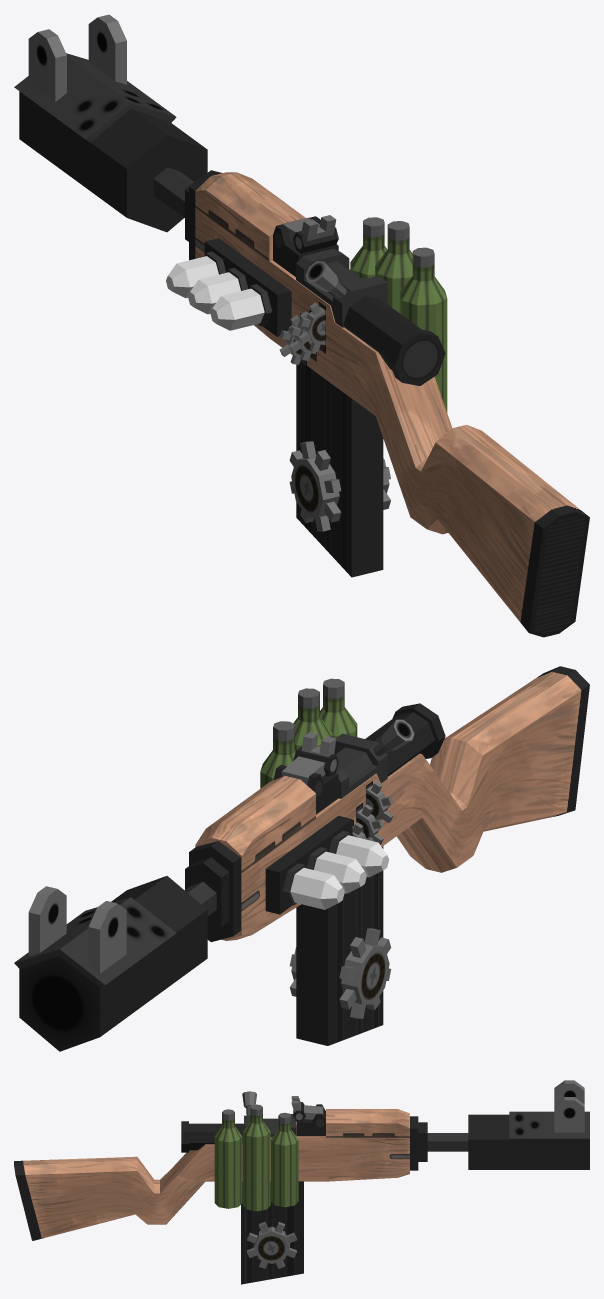
The picture shows the model from 3 angles, top to bottom: view 1: azimuth 30°, elevation 25°; view 2: azimuth 150°, elevation 25°; view 3: azimuth 270°, elevation 25°; orthographic projection. The views are drawn at different scales.
Visible parts, largest first — view 1: Body, Muzzle, Mag, Lamp, Slider, Bolt, GasDeposit_1, Gear_Mag_1, GasDeposit_2, IronSight, GasDeposit_3, IroSightSuport (+1 smaller); view 2: Body, Muzzle, Mag, Lamp, Gear_Mag_1, Bolt, Slider, IronSight, GasDeposit_1, GasDeposit_2, GasDeposit_3, IroSightSuport (+2 smaller); view 3: Body, Muzzle, Mag, GasDeposit_2, GasDeposit_1, GasDeposit_3, Gear_Mag_2, Slider, Bolt, IroSightSuport, IronSight.
Boxes of the visible parts, x1,y1,x2,y2 form: Body: [195, 172, 589, 637]; Muzzle: [14, 14, 222, 260]; Mag: [296, 361, 383, 577]; Lamp: [166, 238, 291, 336]; Slider: [343, 296, 445, 385]; Bolt: [296, 248, 387, 327]; GasDeposit_1: [400, 247, 447, 412]; Gear_Mag_1: [289, 441, 341, 531]; GasDeposit_2: [375, 221, 412, 313]; IronSight: [282, 215, 338, 253]; GasDeposit_3: [350, 217, 387, 279]; IroSightSuport: [273, 216, 338, 276]; Body: [195, 666, 589, 940]; Muzzle: [14, 841, 240, 1051]; Mag: [296, 846, 383, 1045]; Lamp: [265, 815, 389, 914]; Gear_Mag_1: [339, 928, 391, 1018]; Bolt: [334, 719, 414, 798]; Slider: [365, 703, 445, 776]; IronSight: [281, 732, 338, 784]; GasDeposit_1: [320, 678, 357, 738]; GasDeposit_2: [293, 688, 332, 750]; GasDeposit_3: [260, 721, 295, 788]; IroSightSuport: [273, 765, 338, 814]; Body: [14, 1109, 409, 1240]; Muzzle: [410, 1080, 589, 1170]; Mag: [241, 1181, 303, 1284]; GasDeposit_2: [242, 1104, 270, 1211]; GasDeposit_1: [214, 1109, 242, 1208]; GasDeposit_3: [271, 1112, 298, 1207]; Gear_Mag_2: [247, 1221, 296, 1268]; Slider: [181, 1121, 243, 1152]; Bolt: [242, 1091, 296, 1137]; IroSightSuport: [296, 1104, 325, 1136]; IronSight: [291, 1096, 323, 1121].
Size of the model in its own units: 223 by 471 by 1295.
Materials: 2 (2 with a texture image).
